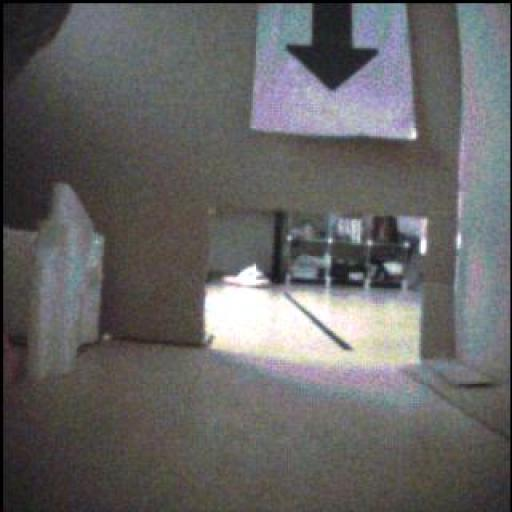arrow: (288, 4, 379, 91)
